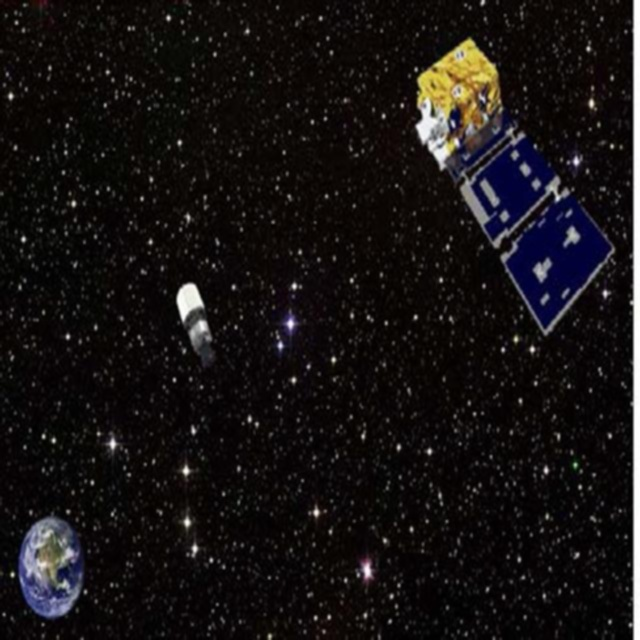large_debris: (173, 269, 215, 372)
medium_debris: (395, 0, 622, 357)
